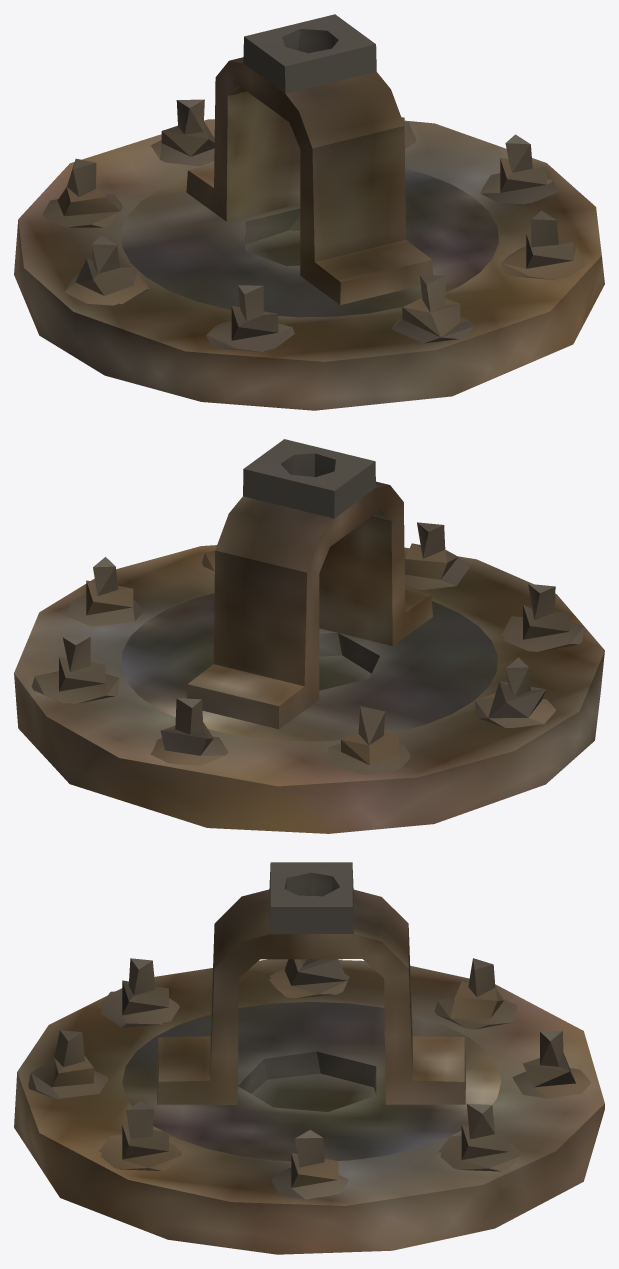
File: pipe-valve-body.lod1.glb
3 views of the same model, one above another, from view 1: azimuth 30°, elevation 25°; view 2: azimuth 150°, elevation 25°; view 3: azimuth 270°, elevation 25° (orthographic).
Visible parts, largest first — view 1: pipe-valve-body; view 2: pipe-valve-body; view 3: pipe-valve-body.
Part boxes in pixels (x1,y1,x2,y2): pipe-valve-body: (14,14,604,410); pipe-valve-body: (14,439,604,833); pipe-valve-body: (14,862,604,1254).
Size of the model in its own units: 0.2805 by 0.1298 by 0.2824.
Materials: 1 (1 with a texture image).
